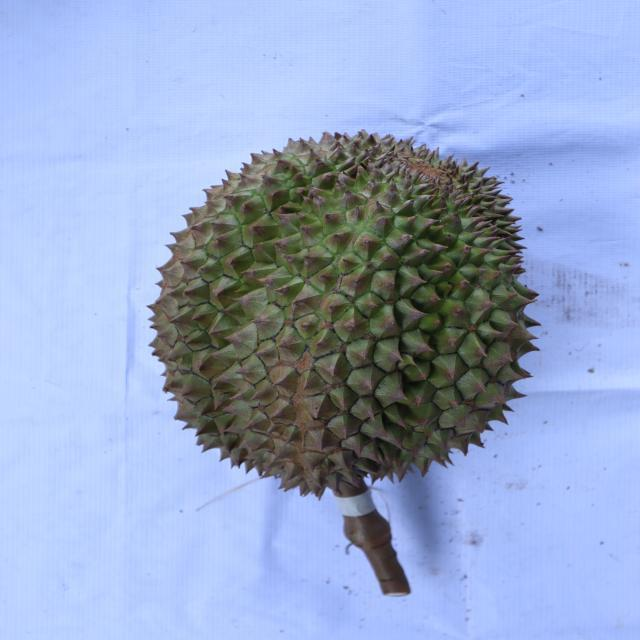mature: (144, 131, 544, 503)
